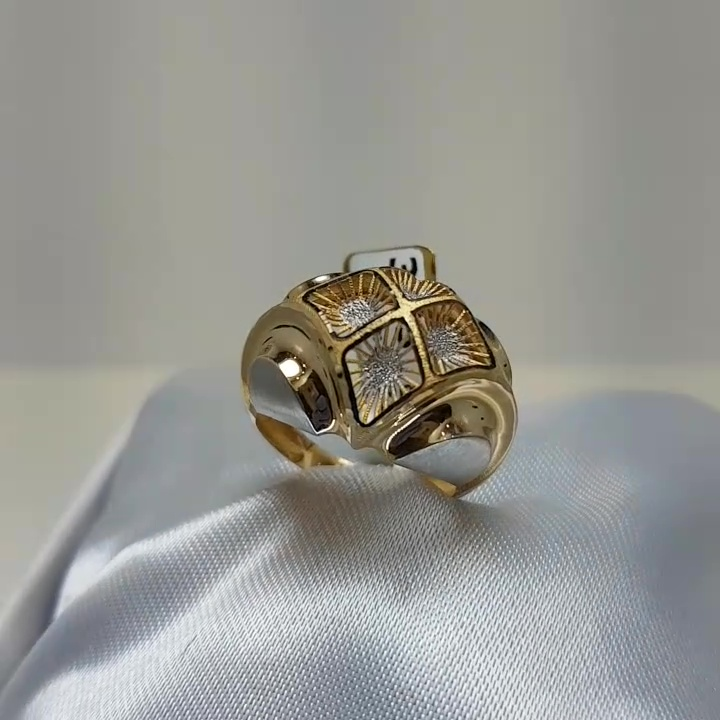Ring 2: (234, 235, 532, 513)
